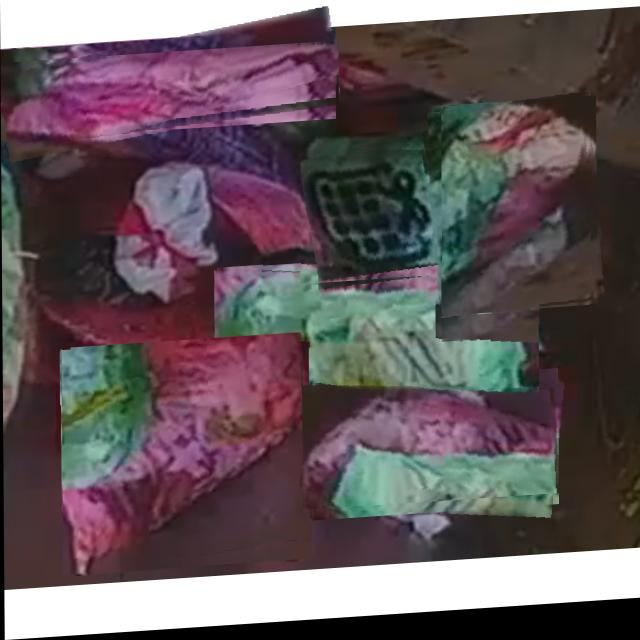general_trashbag: (215, 273, 537, 475), (301, 152, 518, 280)
other_trashbag: (62, 338, 305, 574), (302, 390, 557, 513), (443, 110, 588, 322), (4, 49, 339, 138)
